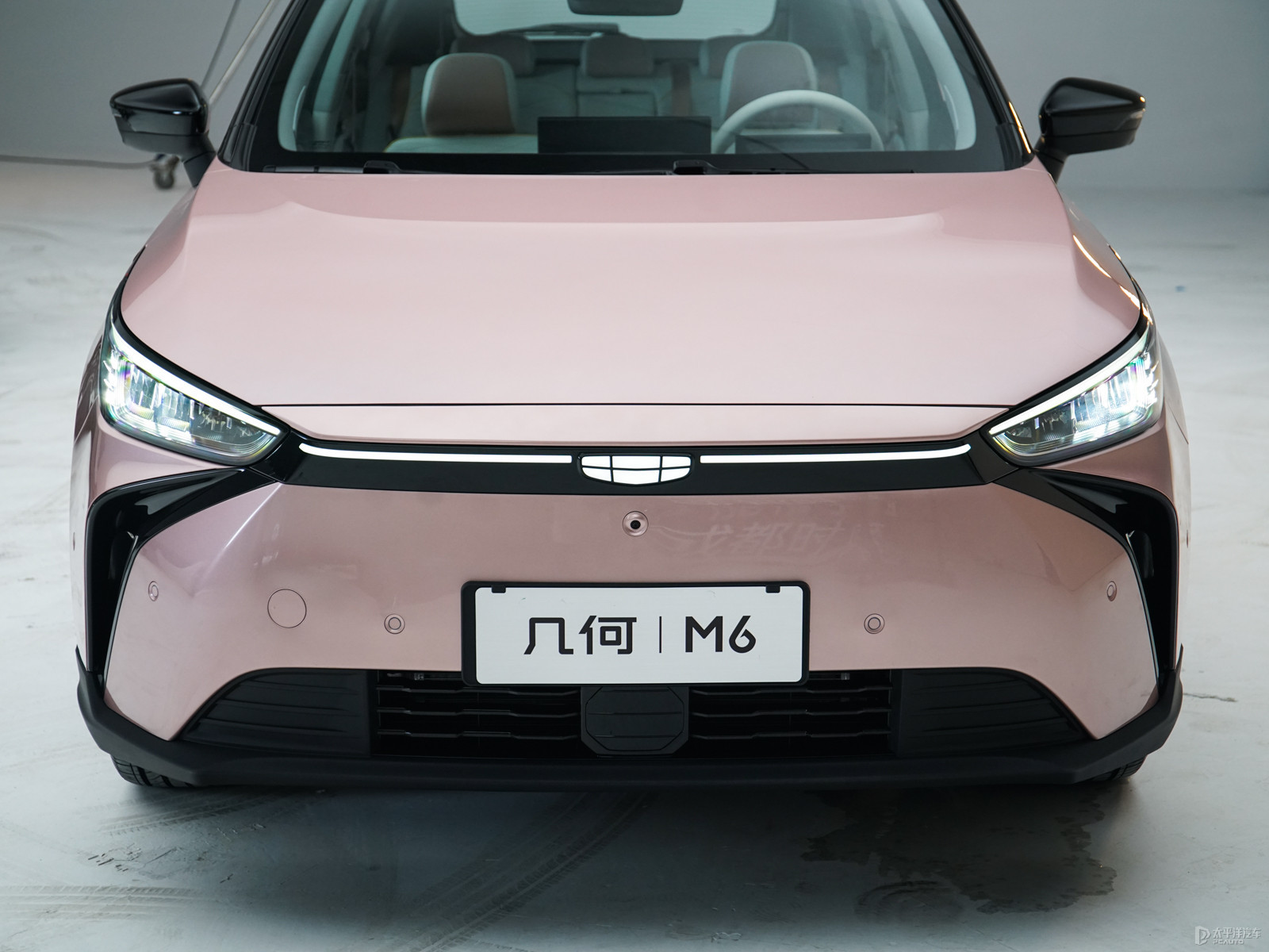GEOMETRY: (581, 456, 689, 485)
